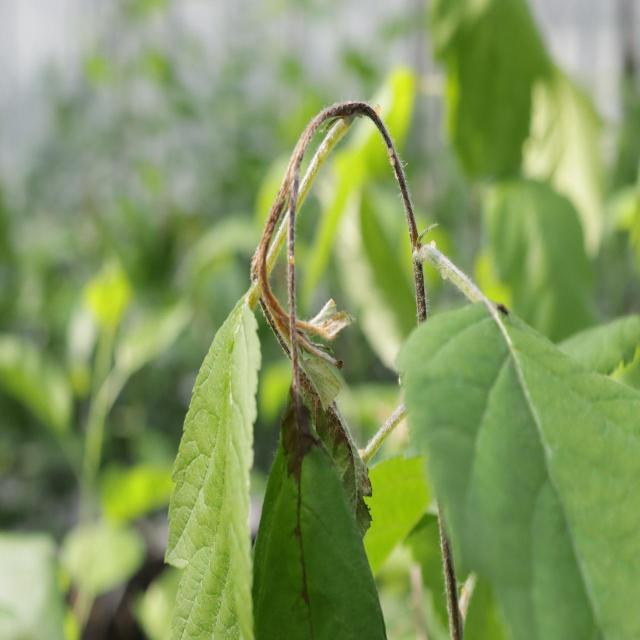-FireBlight-: (248, 87, 428, 518)
